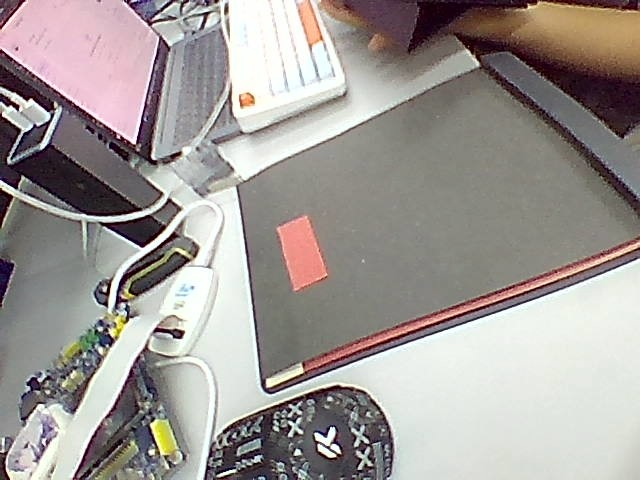card: (278, 216, 326, 291)
